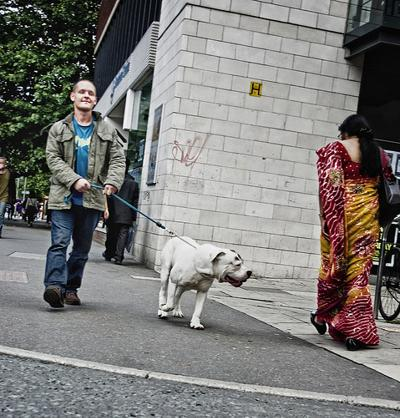person: (46, 79, 127, 304)
